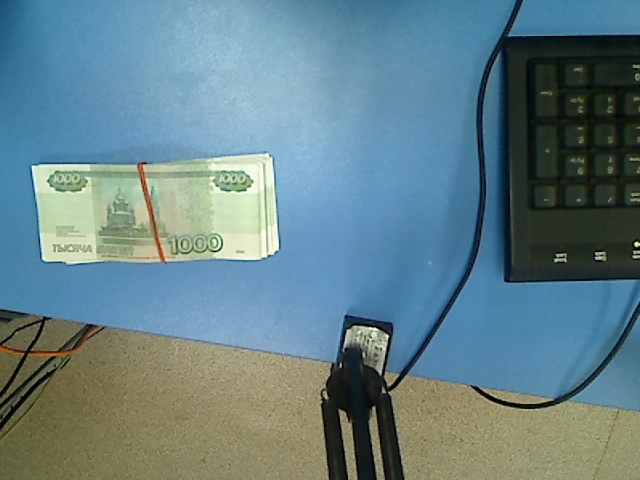banknotes: (28, 151, 284, 267)
